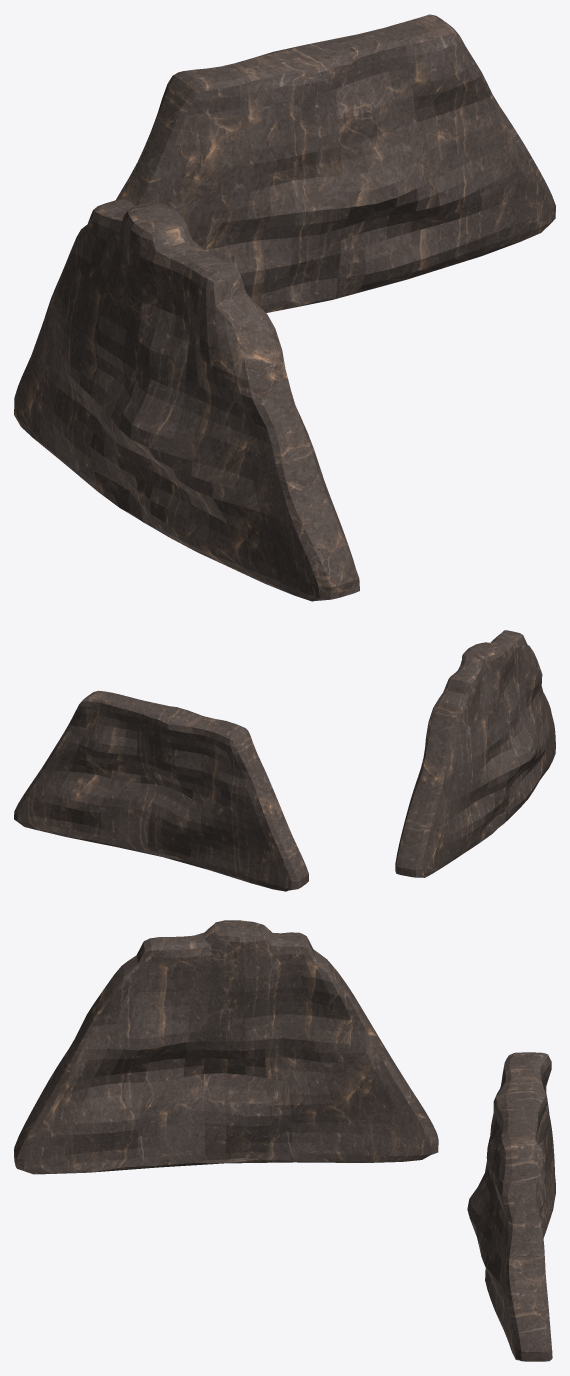
File: piedras.fbx
3 views of the same model, one above another, from view 1: azimuth 30°, elevation 25°; view 2: azimuth 150°, elevation 25°; view 3: azimuth 270°, elevation 25° (orthographic). The views are drawn at different scales.
Visible parts, largest first — view 1: Cube.027, Cube.028; view 2: Cube.027, Cube.028; view 3: Cube.028, Cube.027.
Part boxes in pixels (<box>): Cube.027: <box>116,14,555,312</box>; Cube.028: <box>14,199,359,601</box>; Cube.027: <box>14,690,308,891</box>; Cube.028: <box>395,630,555,877</box>; Cube.028: <box>14,920,438,1174</box>; Cube.027: <box>467,1052,555,1361</box>.
Bounding box in the file's own units: 2162 × 971 × 2070.
1 material, 1 textured.
